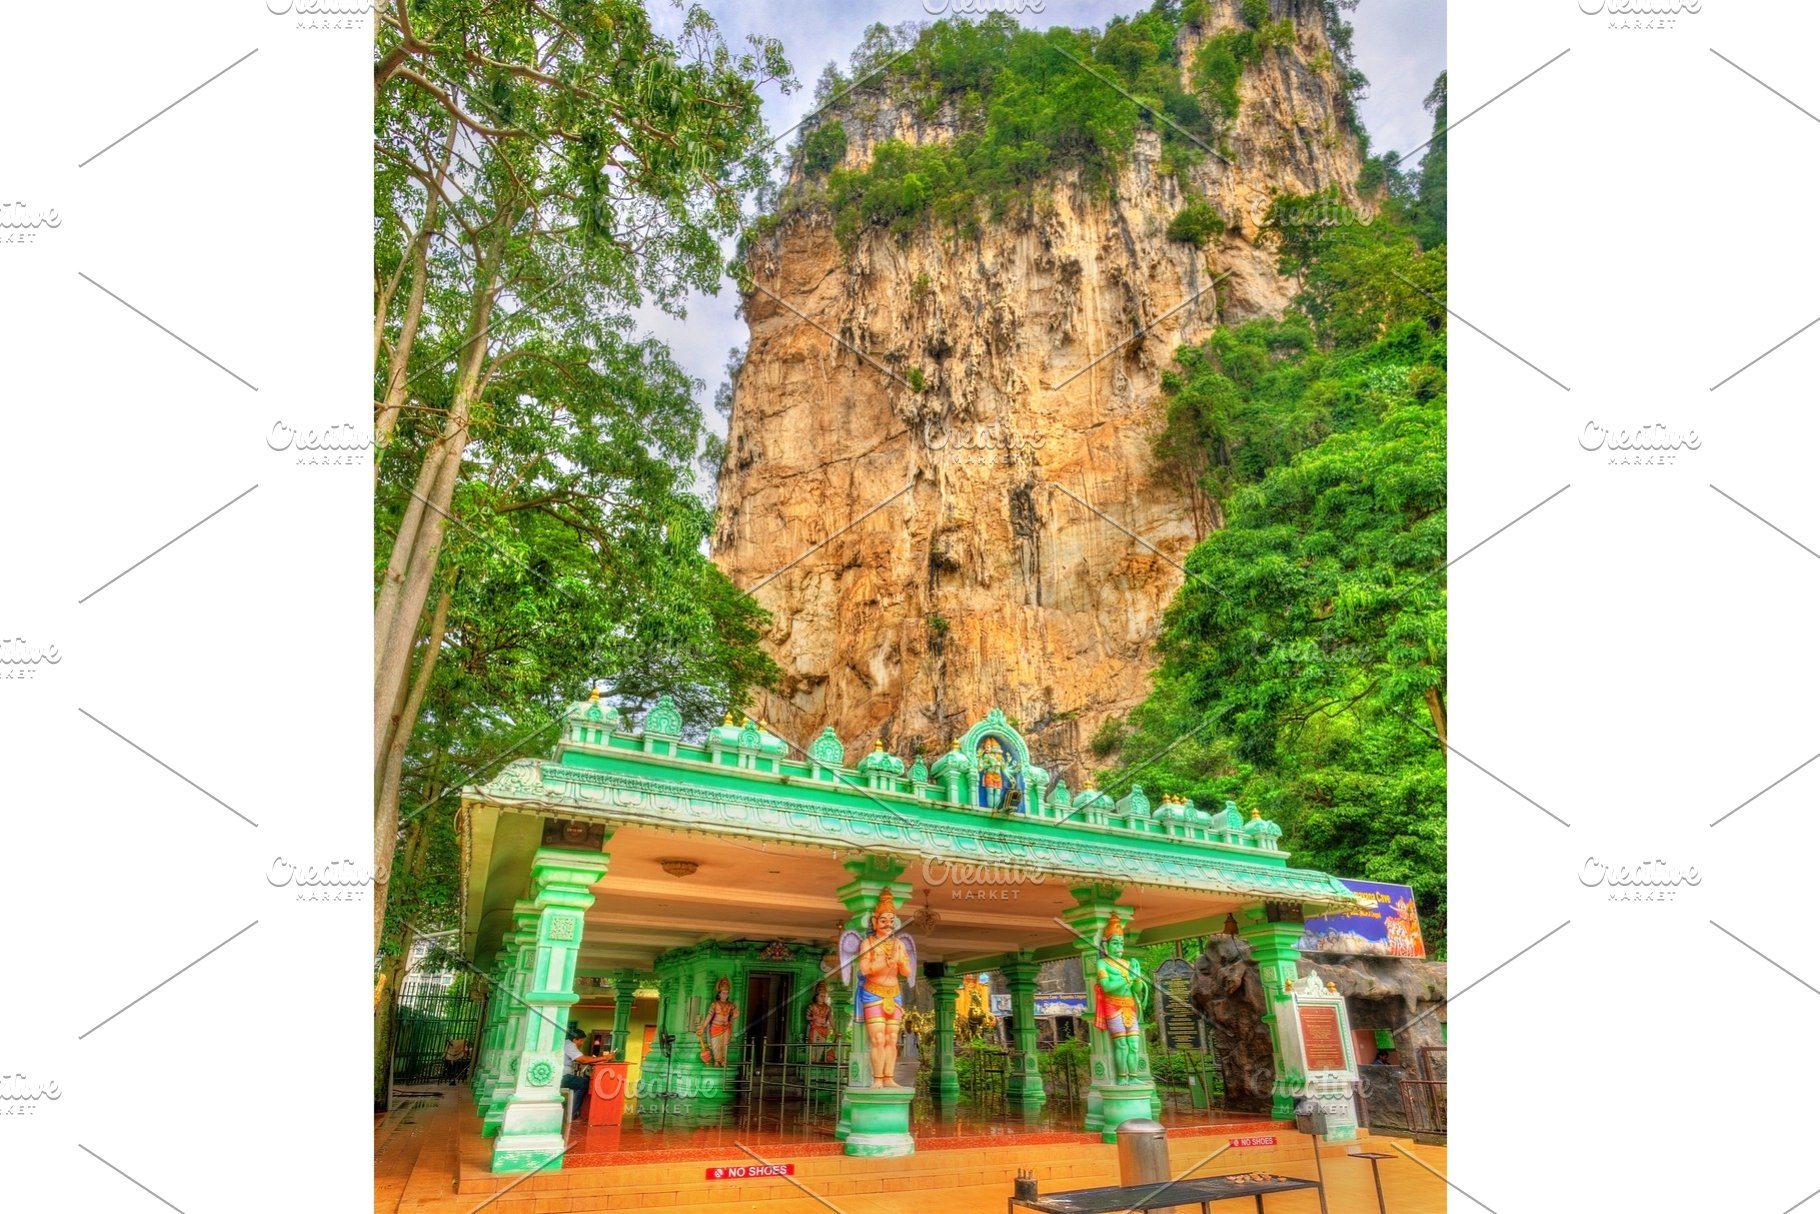Hindu Temple: (464, 675, 1374, 1148)
